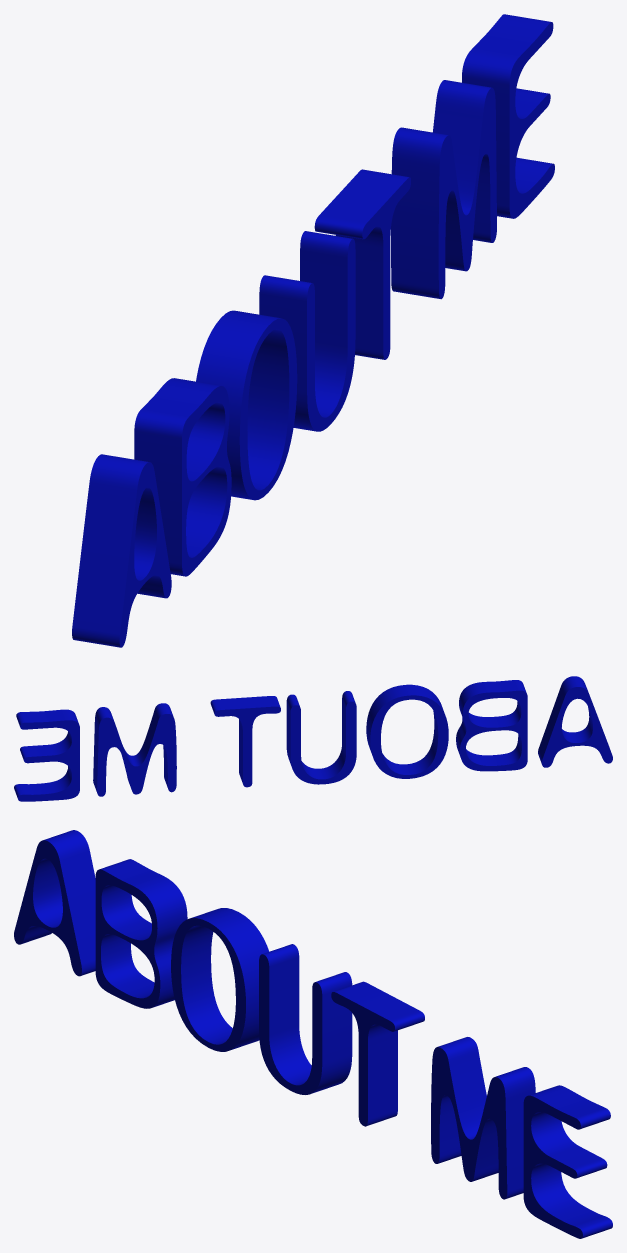
Rendered from abtme.glb.
3 renders of one model, top to bottom at view 1: azimuth 30°, elevation 25°; view 2: azimuth 150°, elevation 25°; view 3: azimuth 270°, elevation 25°, orthographic. The views are drawn at different scales.
Parts seen in each view (by area): view 1: Text; view 2: Text; view 3: Text.
Part boxes in pixels (x1,y1,x2,y2): Text: (72,14,554,647); Text: (14,676,612,801); Text: (14,830,612,1238).
Bounding box in the file's own units: 4.18 × 0.7925 × 3.42.
